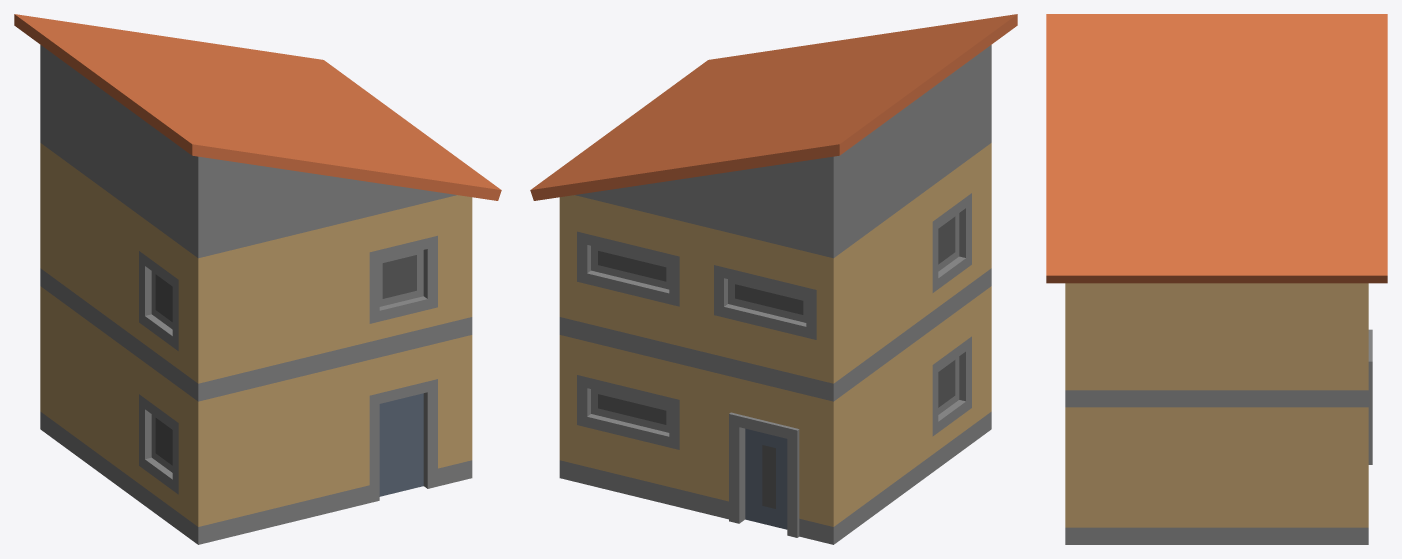
File: SM_Suburb_House_014.fbx
3 renders of one model, left to right at view 1: azimuth 30°, elevation 25°; view 2: azimuth 150°, elevation 25°; view 3: azimuth 270°, elevation 25°, orthographic. The views are drawn at different scales.
Parts seen in each view (by area): view 1: SM_Suburb_House_014; view 2: SM_Suburb_House_014; view 3: SM_Suburb_House_014.
Boxes of the visible parts, x1,y1,x2,y2 form: SM_Suburb_House_014: [14, 14, 501, 544]; SM_Suburb_House_014: [530, 14, 1017, 544]; SM_Suburb_House_014: [1046, 14, 1387, 544].
Size of the model in its own units: 651 by 828 by 648.
